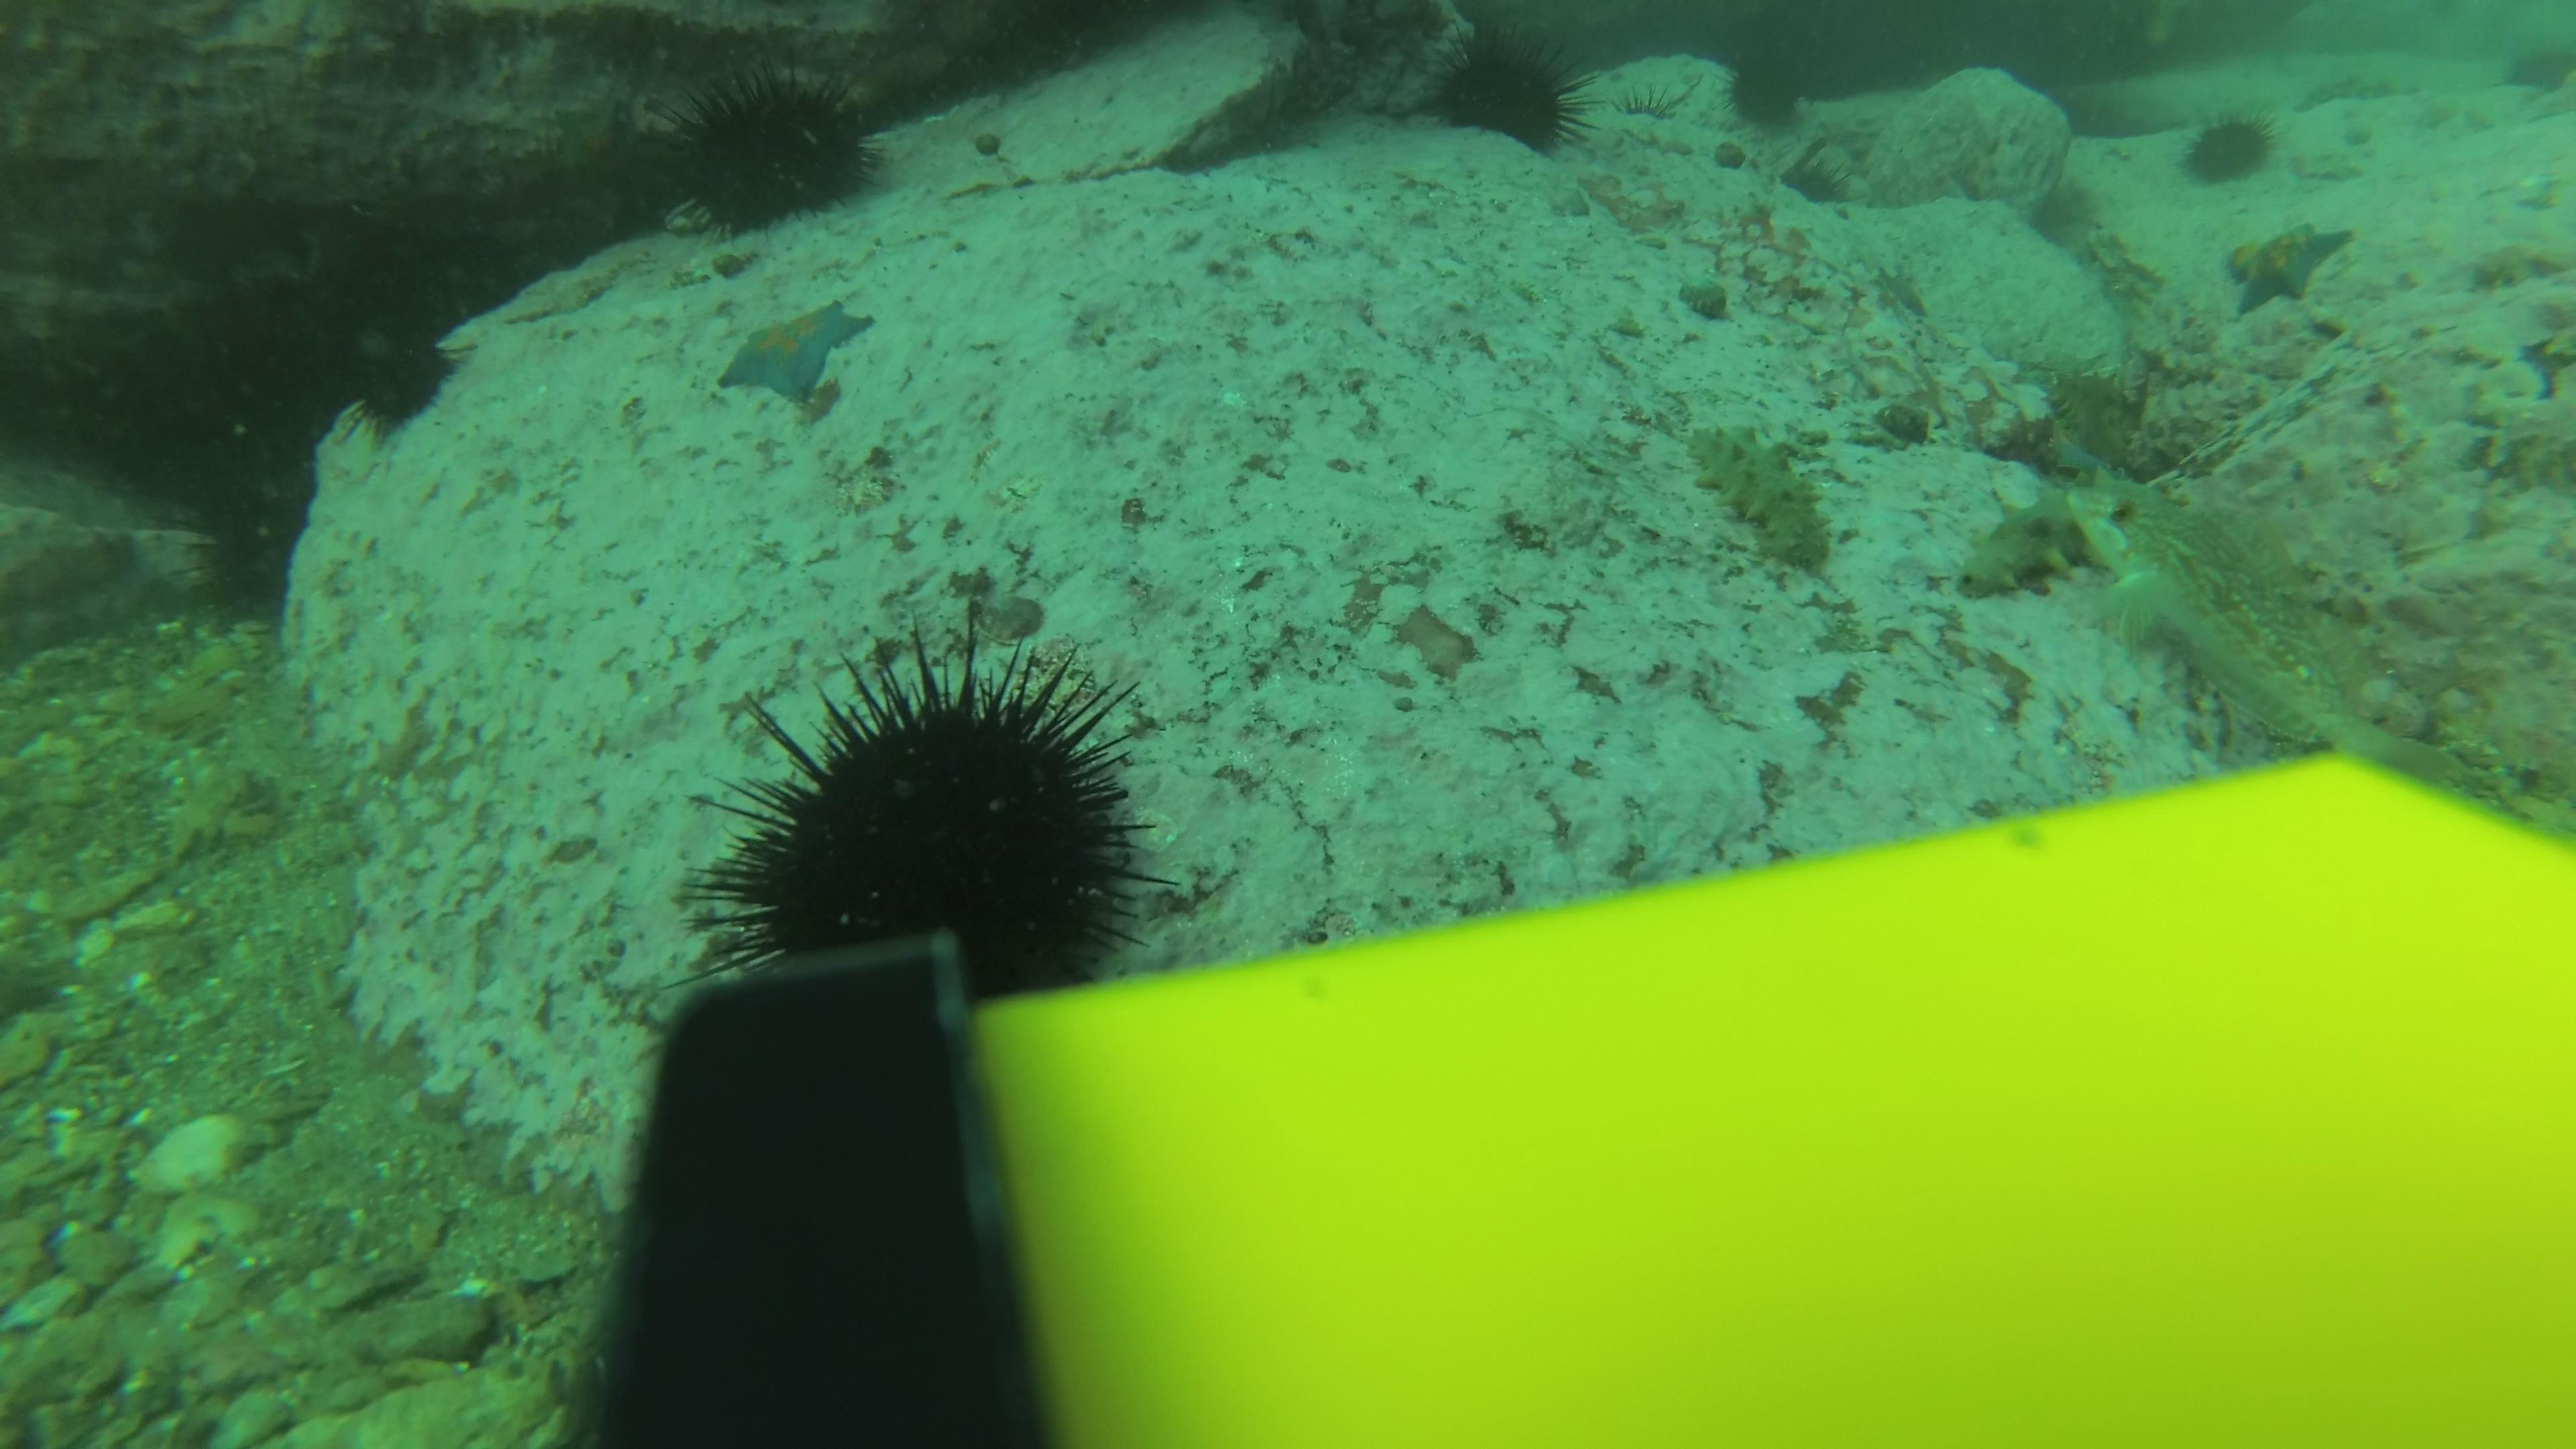urchin: (655, 662, 1200, 984), (665, 58, 899, 232), (1396, 34, 1591, 149), (1723, 30, 1838, 136), (2185, 119, 2291, 175)
